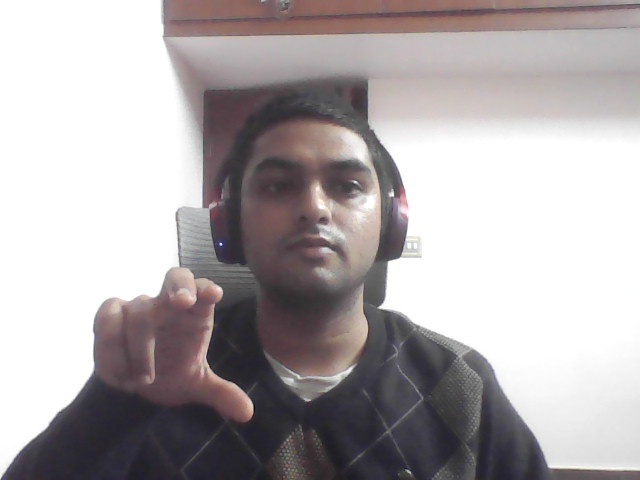No: (58, 238, 287, 449)
